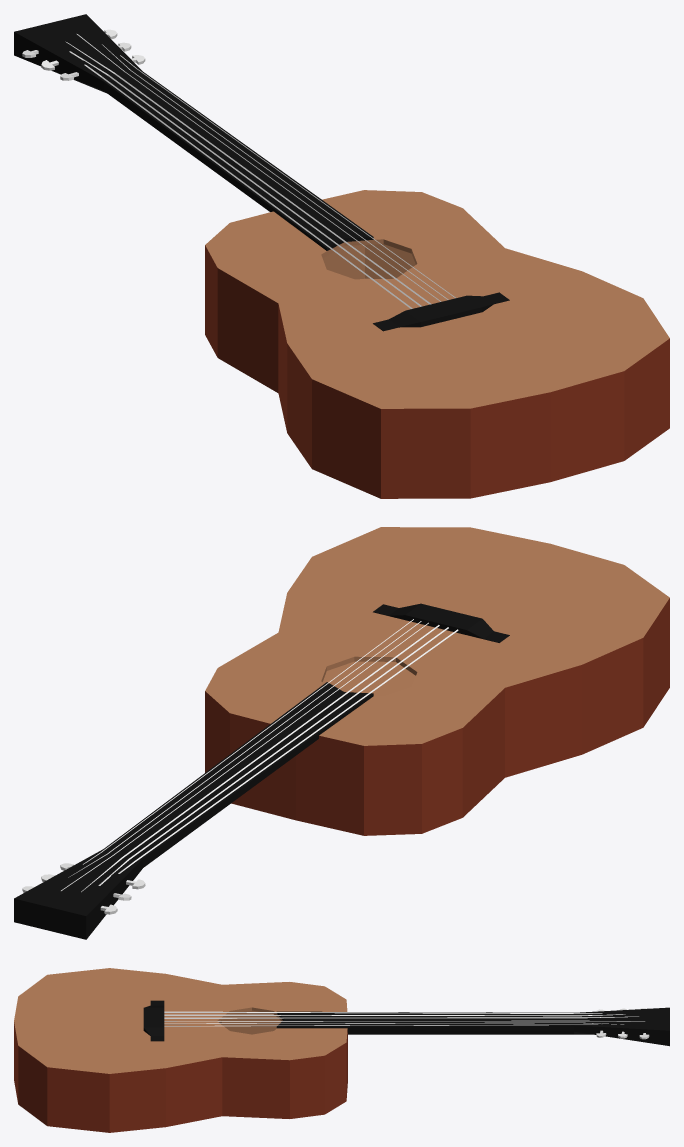
The model's file is AcousticGuitar.fbx.
3 views of the same model, one above another, from view 1: azimuth 30°, elevation 25°; view 2: azimuth 150°, elevation 25°; view 3: azimuth 270°, elevation 25° (orthographic). The views are drawn at different scales.
Parts seen in each view (by area): view 1: Guitar, Strings; view 2: Guitar, Strings, Knobs; view 3: Guitar, Strings.
Part boxes in pixels (bbox=[...]): Guitar: bbox=[14, 14, 669, 498]; Strings: bbox=[65, 34, 455, 308]; Guitar: bbox=[14, 527, 669, 939]; Strings: bbox=[61, 619, 458, 892]; Knobs: bbox=[22, 863, 145, 914]; Guitar: bbox=[14, 968, 669, 1132]; Strings: bbox=[164, 1011, 645, 1026].
Size of the model in its own units: 36.62 by 10.04 by 95.8.
